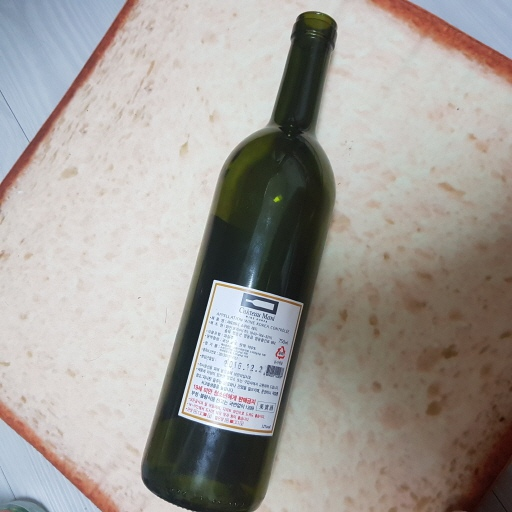Glass_2: (141, 9, 337, 512)
